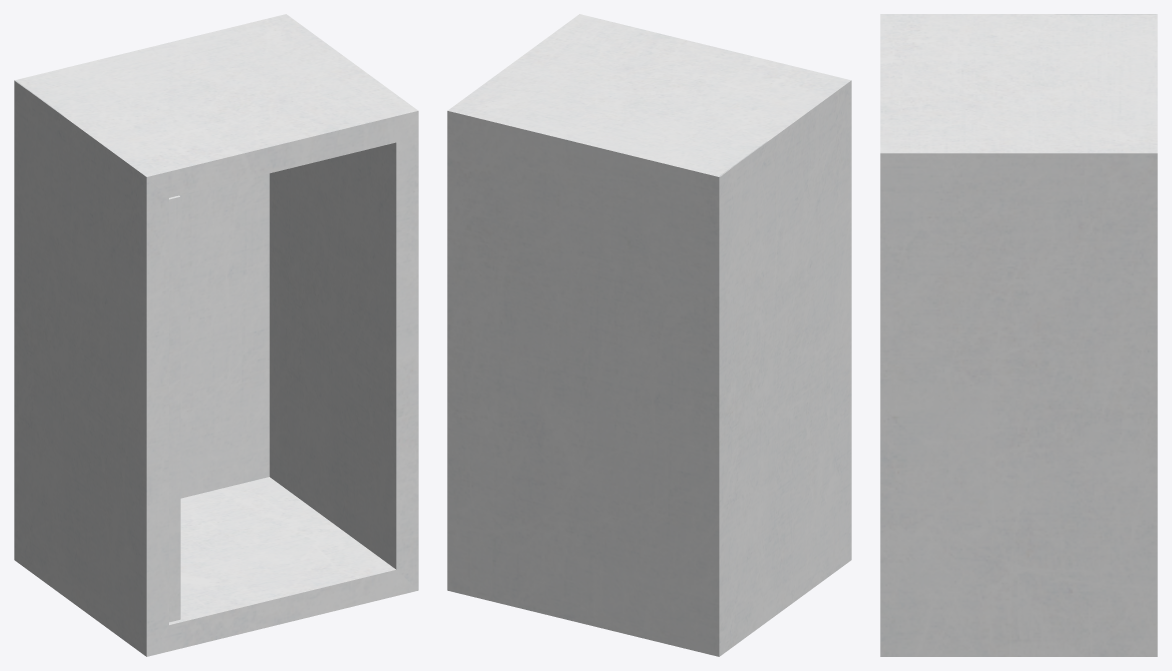
File: FireExtinguisherBox.FBX
3 views of the same model, side by side, from view 1: azimuth 30°, elevation 25°; view 2: azimuth 150°, elevation 25°; view 3: azimuth 270°, elevation 25° (orthographic). The views are drawn at different scales.
Parts seen in each view (by area): view 1: FireExtinguisherBox; view 2: FireExtinguisherBox; view 3: FireExtinguisherBox.
Part boxes in pixels (<box>): FireExtinguisherBox: <box>14,14,418,656</box>; FireExtinguisherBox: <box>447,14,851,656</box>; FireExtinguisherBox: <box>880,14,1157,656</box>.
Size of the model in its own units: 31.57 by 53.24 by 26.59.
1 material, 1 textured.
